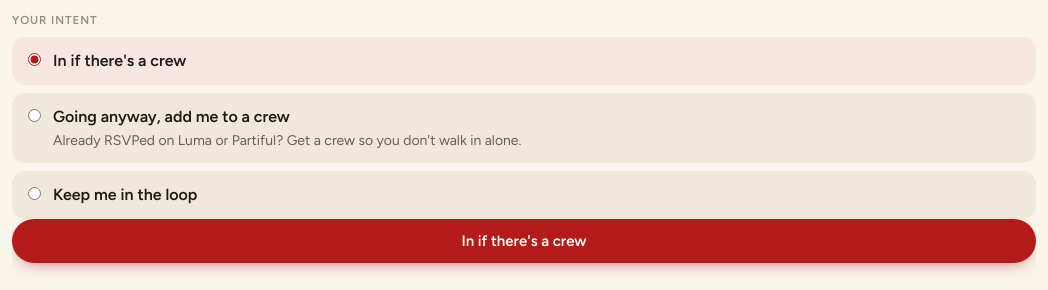
Test: IntentPicker › changes the button label for each of the three choices
Click the radio button labelled "Going anyway, add me to a crew".
click(34, 116)  # box [28,109,41,122]
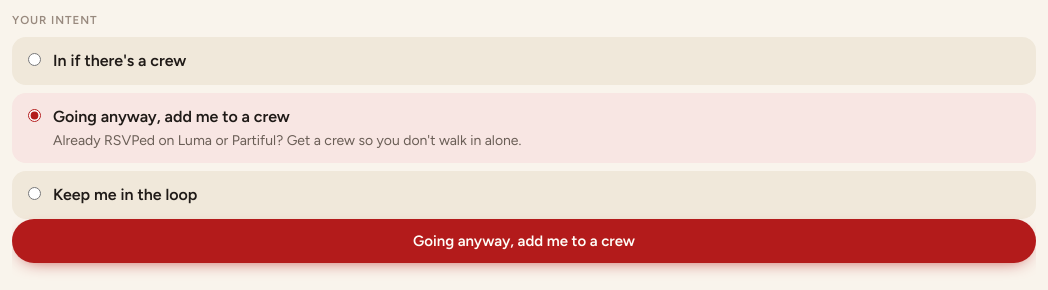
Result: the button reads "Going anyway, add me to a crew" at [12,219,1036,263]
Click the radio button labelled "Keep me in the loop".
click(34, 194)  # box [28,187,41,200]
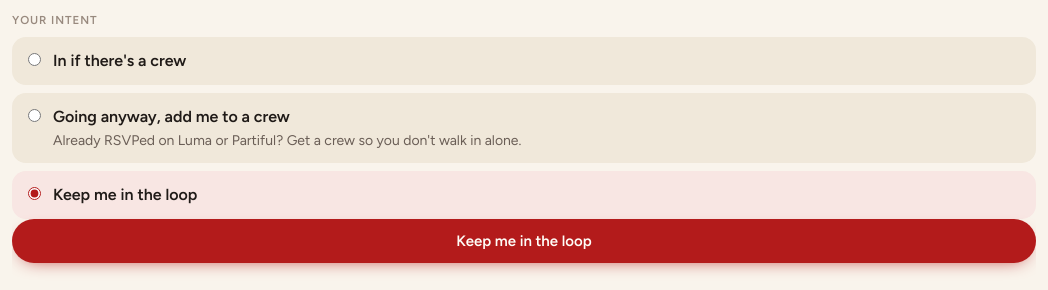
Result: the button reads "Keep me in the loop" at [12,219,1036,263]
Click the radio button labelled "In if there's a crew".
click(34, 60)  # box [28,53,41,66]
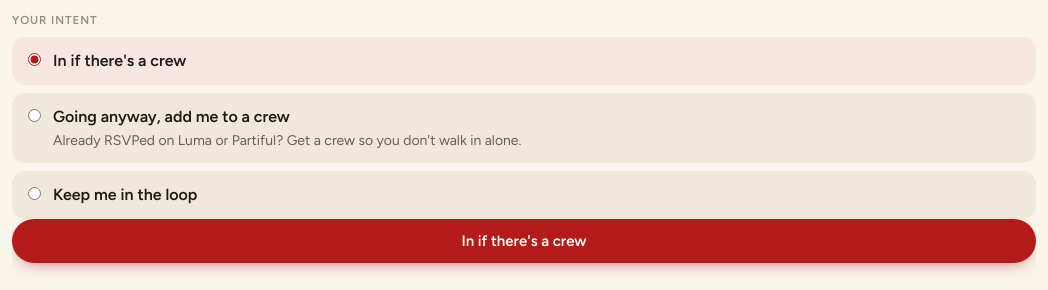
Result: the button reads "In if there's a crew" at [12,219,1036,263]
